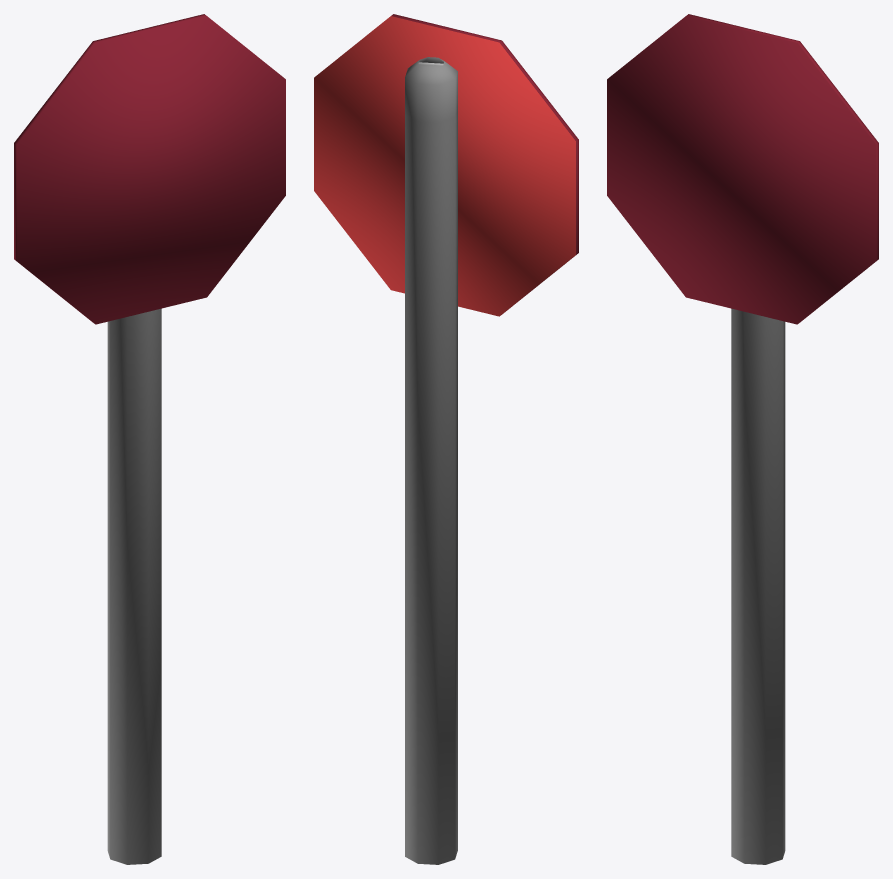
The model's file is Placa03.fbx.
The picture shows the model from 3 angles, left to right: view 1: azimuth 30°, elevation 25°; view 2: azimuth 150°, elevation 25°; view 3: azimuth 330°, elevation 25°; orthographic projection. The views are drawn at different scales.
Parts seen in each view (by area): view 1: Poste01.002; view 2: Poste01.002; view 3: Poste01.002.
Part boxes in pixels (<box>): Poste01.002: <box>14,14,285,864</box>; Poste01.002: <box>314,14,578,864</box>; Poste01.002: <box>607,14,878,864</box>.
Bounding box in the file's own units: 55.43 × 165 × 11.
1 material, 1 textured.
